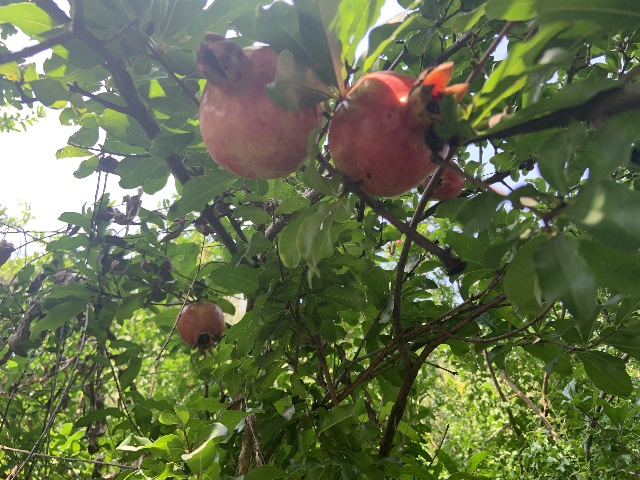ripe: (327, 61, 469, 197), (195, 30, 322, 180), (175, 300, 225, 355), (420, 159, 465, 201)
